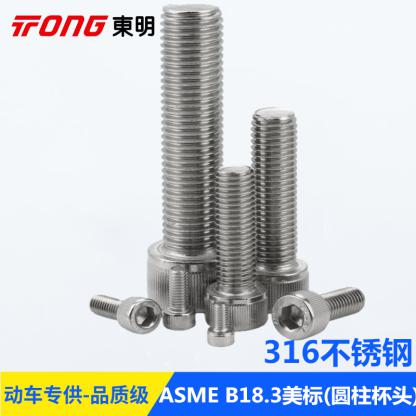FOD: (145, 2, 238, 318), (240, 106, 308, 316), (198, 164, 270, 334), (268, 285, 366, 342), (89, 294, 163, 335), (160, 268, 198, 331), (204, 300, 237, 348)
